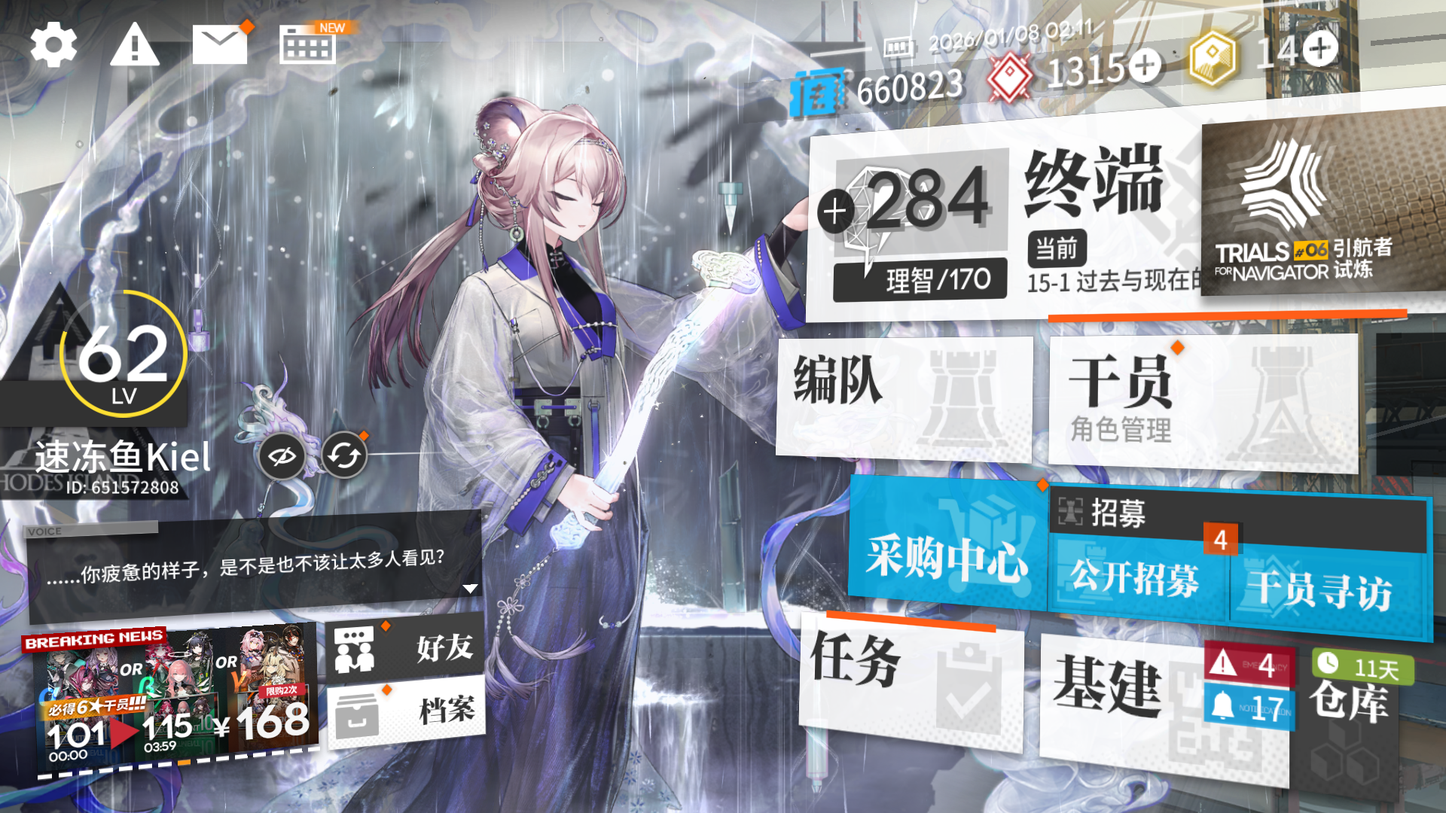home_button: (1015, 126, 1165, 243)
infrastructure_button: (1048, 643, 1179, 739)
